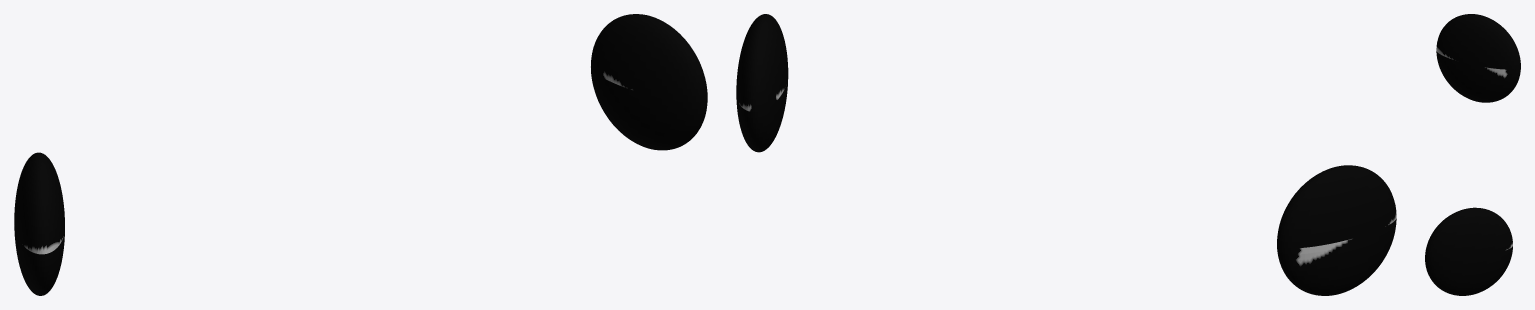
File: petfish_v31_pupils.fbx
The picture shows the model from 3 angles, left to right: view 1: azimuth 30°, elevation 25°; view 2: azimuth 150°, elevation 25°; view 3: azimuth 270°, elevation 25°; orthographic projection. The views are drawn at different scales.
Visible parts, largest first — view 1: pupil_R, pupil_L; view 2: pupil_L, pupil_R; view 3: pupil_R, pupil_L.
Boxes of the visible parts, x1,y1,x2,y2 form: pupil_R: (591,14,707,150); pupil_L: (14,152,64,295); pupil_L: (1277,165,1396,295); pupil_R: (736,14,788,152); pupil_R: (1425,207,1512,295); pupil_L: (1436,14,1520,102).
Bounding box in the file's own units: 157 × 29.46 × 29.62.
1 material, 1 textured.
